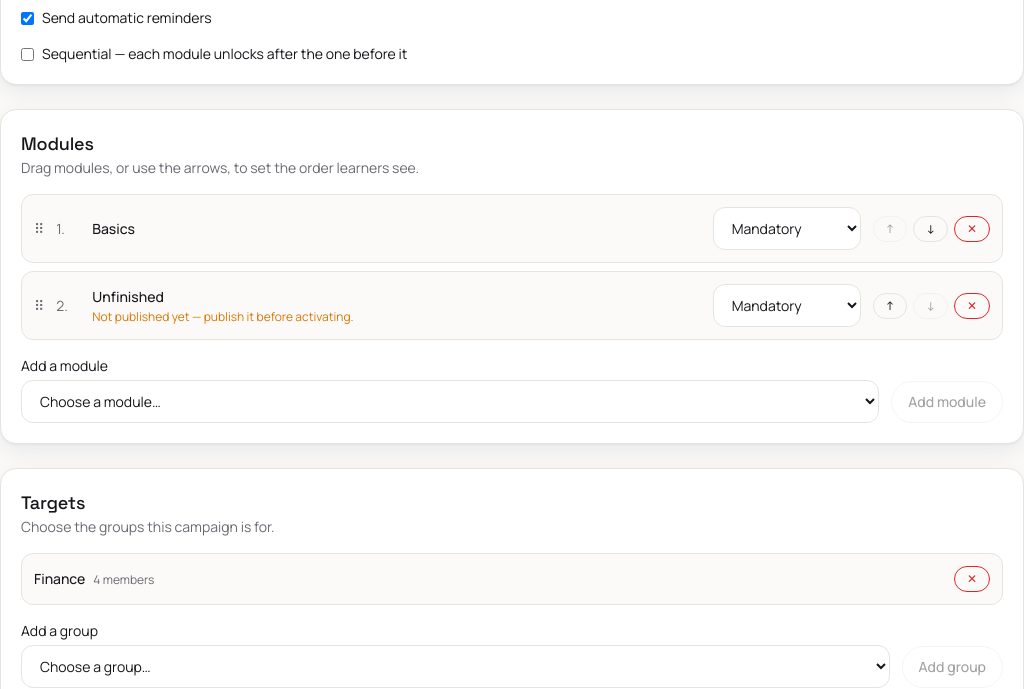
CampaignBuilderPage › keeps the campaign untouched when the author cancels the impact dialog
(page scrolled)
Step 1. Click the button named "Remove Unfinished" → (972,306), box [954,292,990,318]
(page scrolled)
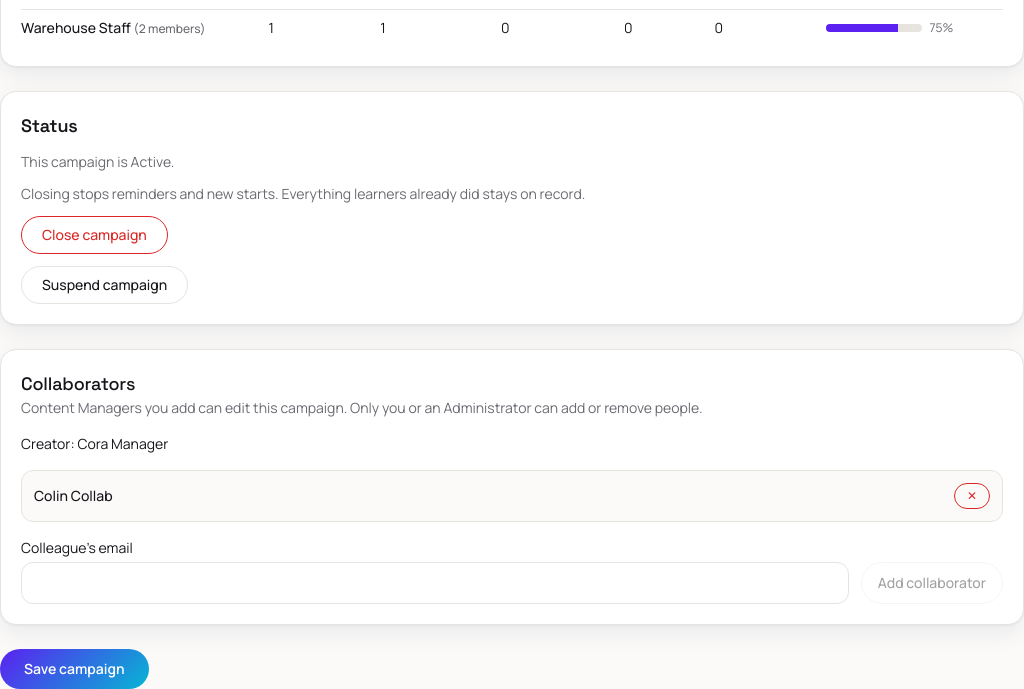
Step 2. Click the button "Save campaign" → (74,669), box [0,649,149,688]
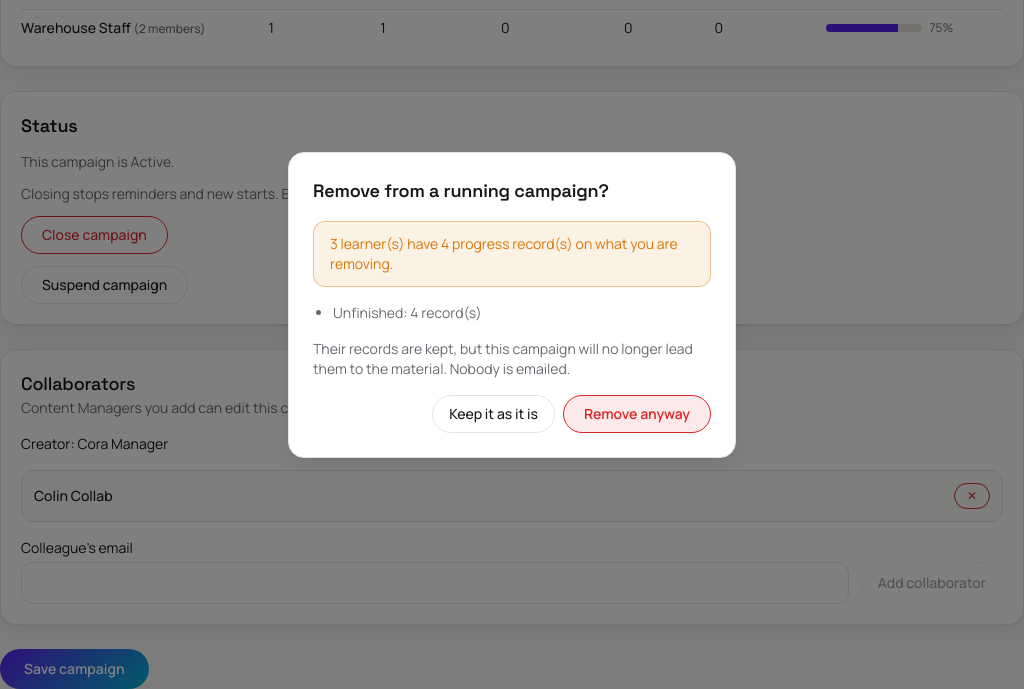
Step 3. Click the button "Keep it as it is" → (494,414), box [432,395,555,433]
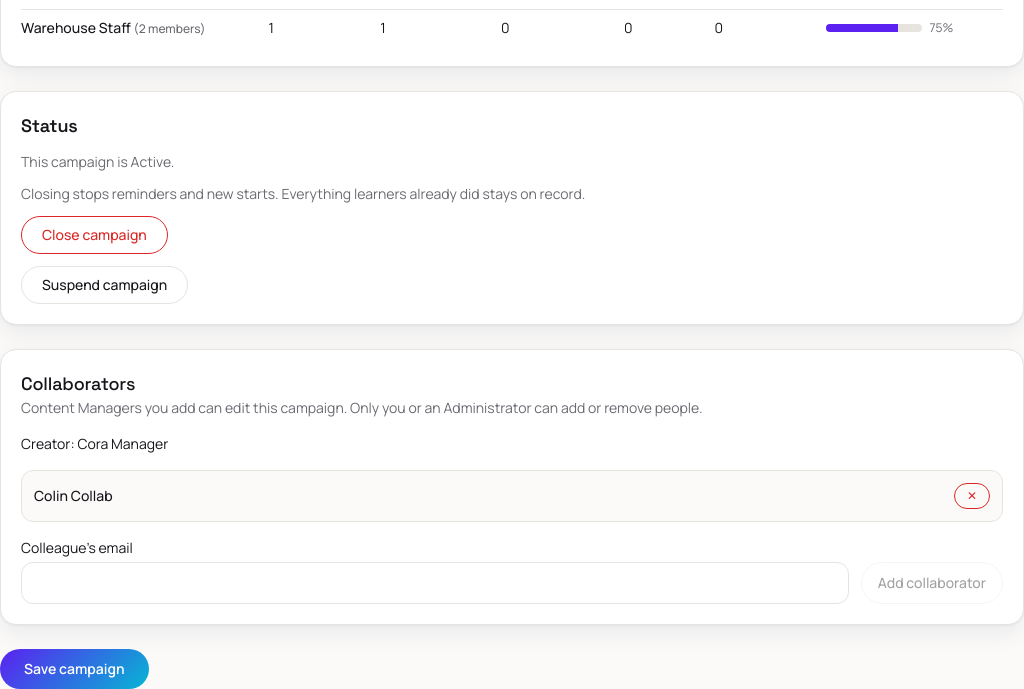
Expected: the dialog is gone
